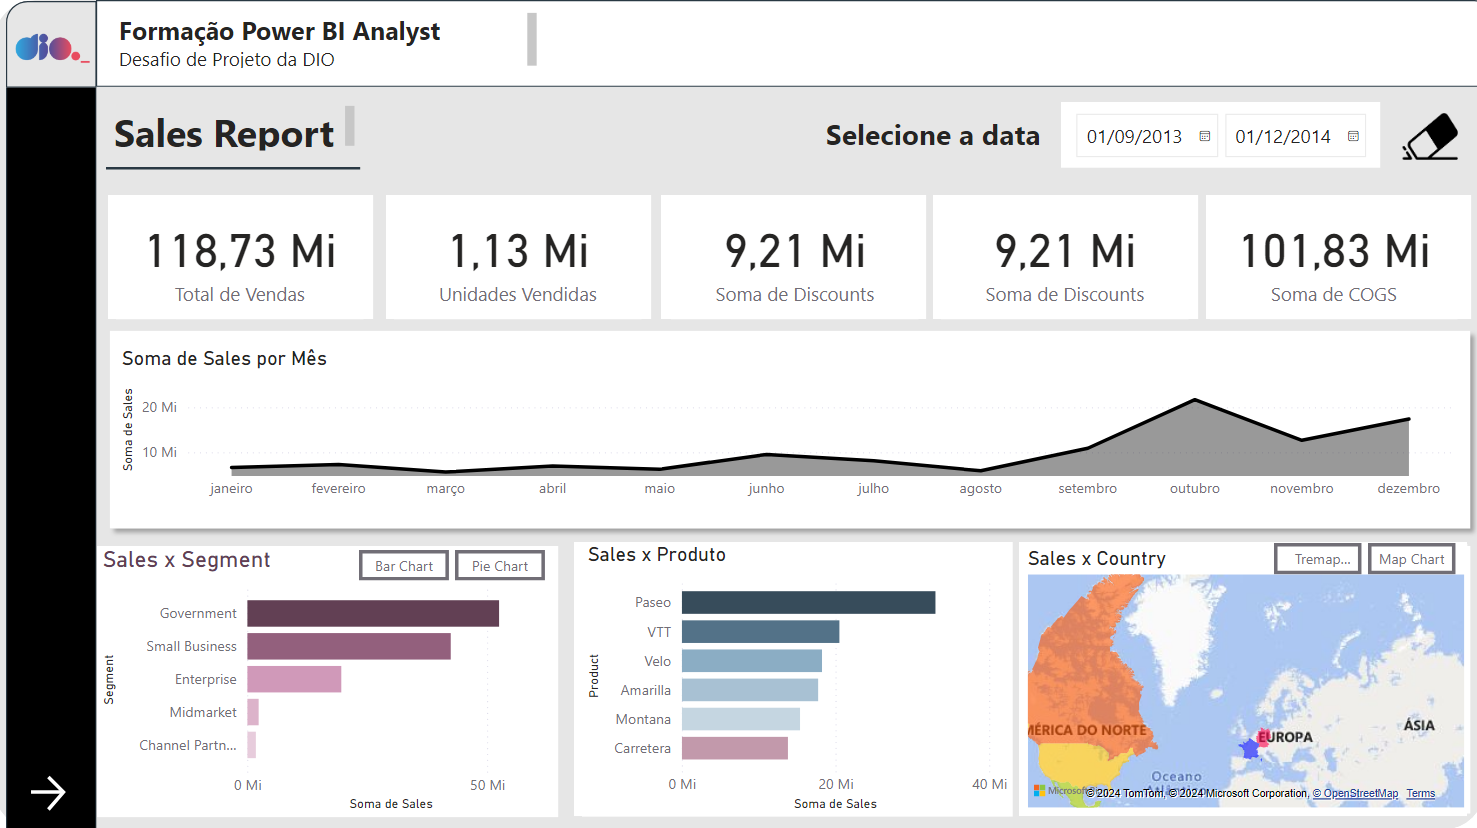

This screenshot's page, from the dashboard's own definition file:
{"tool":"powerbi","page":{"name":"Página 1","canvas":[1280,720],"ordinal":0},"visuals":[{"type":"shape","box":[0,13.2,1270.2,706.8],"z":0},{"type":"slicer","fields":{"Values":["financials.Date"]},"box":[909.4,99.8,272.2,55.6],"z":0,"group":"g5"},{"type":"shape","box":[95.5,139.7,216.7,32.8],"z":0,"group":"g4"},{"type":"shape","box":[97.4,179.2,226.5,105.7],"z":0,"group":"g1"},{"type":"map","title":"Sales x Country","fields":{"Category":["financials.Country"],"Size":["Sum(financials. Sales)"]},"box":[873.8,476,382,228.1],"z":0,"group":"g2"},{"type":"clusteredBarChart","title":"Sales x Segment","fields":{"Category":["financials.Segment"],"Y":["Sum(financials. Sales)"]},"box":[87.8,477.7,393.2,230.7],"z":250,"group":"g3"},{"type":"actionButton","title":"Botão - bar","box":[310.7,481.6,76.6,26],"z":500,"group":"g3"},{"type":"actionButton","title":"Botão -pie","box":[392.8,481.6,76.6,26],"z":750,"group":"g3"},{"type":"shape","box":[10.1,13.4,77.2,706.3],"z":1000},{"type":"textbox","box":[96.9,98.4,215.2,48.5],"z":1000,"group":"g4"},{"type":"textbox","box":[704.1,105.5,199.6,45.6],"z":1000,"group":"g5"},{"type":"shape","box":[334,179.2,226.5,105.7],"z":1000,"group":"g1"},{"type":"filledMap","title":"Sales x Country","fields":{"Category":["financials.Country"]},"box":[876.7,477.5,382,228.1],"z":1000,"group":"g2"},{"type":"actionButton","title":"Botão - map","box":[1170.8,475.2,74.5,26.6],"z":1250,"group":"g2"},{"type":"actionButton","title":"Botão - tremap","box":[1090.9,475.2,74.5,26.6],"z":1500,"group":"g2"},{"type":"shape","box":[10.1,13.4,77.2,73.8],"z":2000},{"type":"shape","box":[568.9,179.2,226.5,105.7],"z":2000,"group":"g1"},{"type":"actionButton","box":[1195.9,104.1,59.9,51.3],"z":3000},{"type":"shape","box":[800.4,179.2,226.5,105.7],"z":3000,"group":"g1"},{"type":"shape","box":[86.9,12.8,1193.1,74.1],"z":4000},{"type":"shape","box":[1032.6,179.2,226.5,105.7],"z":4000,"group":"g1"},{"type":"textbox","box":[101,19,365.9,57.1],"z":5000},{"type":"card","fields":{"Values":["Sum(financials. Sales)"]},"box":[104.1,179.6,211,105.5],"z":5000,"group":"g1"},{"type":"group","id":"g1","title":"Cartões","box":[97.4,179.2,1161.7,105.9],"z":6000},{"type":"card","fields":{"Values":["Sum(financials.Units Sold)"]},"box":[340.7,179.6,211,105.5],"z":6000,"group":"g1"},{"type":"card","fields":{"Values":["Sum(financials.Discounts)"]},"box":[806.8,179.6,211,105.5],"z":7000,"group":"g1"},{"type":"shape","box":[89.8,285.1,1177.4,186.7],"z":7000},{"type":"card","fields":{"Values":["Sum(financials.Discounts)"]},"box":[577.3,179.6,211,105.5],"z":8000,"group":"g1"},{"type":"shape","box":[494.6,474.7,370.6,233.8],"z":8000},{"type":"card","fields":{"Values":["Sum(financials.COGS)"]},"box":[1036.3,179.6,211,105.5],"z":9000,"group":"g1"},{"type":"shape","box":[873.8,474.7,382,233.8],"z":9000},{"type":"areaChart","fields":{"Category":["financials.Date.Variation.Hierarquia de datas.Mês"],"Y":["Sum(financials. Sales)"]},"box":[104.1,307.9,1143.2,139.7],"z":10000},{"type":"clusteredBarChart","title":"Sales x Produto","fields":{"Y":["Sum(financials. Sales)"],"Category":["financials.Product"]},"box":[501.2,474.5,366.9,233.8],"z":11000},{"type":"group","id":"g2","title":"Sales x país","box":[873.8,475.2,384.9,230.3],"z":12000},{"type":"group","id":"g3","title":"Sales x Segmento","box":[87.8,477.1,396.6,231.2],"z":13000},{"type":"group","id":"g4","title":"Title report","box":[95.5,98.4,216.7,74.1],"z":14000},{"type":"actionButton","box":[25.9,669,48.8,39.6],"z":15000},{"type":"image","box":[11.7,16.1,76.1,73.2],"z":16000},{"type":"image","box":[1191.2,101,64.4,57.1],"z":16001,"group":"g5"},{"type":"group","id":"g5","title":"Grupo 1","box":[704.1,99.8,551.5,58.3],"z":17000}]}

Visuals, with their boxes on the page's 1280x720 design canvas (x1, y1, x2, y2). These are canvas units, not pixel positions in the 1477x828 screenshot, which may show the page scaled, cropped or inside an application window:
shape: bbox(0, 13, 1270, 720)
slicer - financials.Date: bbox(909, 100, 1182, 155)
shape: bbox(96, 140, 312, 172)
shape: bbox(97, 179, 324, 285)
"Sales x Country" map: bbox(874, 476, 1256, 704)
"Sales x Segment" clusteredBarChart: bbox(88, 478, 481, 708)
"Botão - bar" actionButton: bbox(311, 482, 387, 508)
"Botão -pie" actionButton: bbox(393, 482, 469, 508)
shape: bbox(10, 13, 87, 720)
textbox: bbox(97, 98, 312, 147)
textbox: bbox(704, 106, 904, 151)
shape: bbox(334, 179, 560, 285)
"Sales x Country" filledMap: bbox(877, 478, 1259, 706)
"Botão - map" actionButton: bbox(1171, 475, 1245, 502)
"Botão - tremap" actionButton: bbox(1091, 475, 1165, 502)
shape: bbox(10, 13, 87, 87)
shape: bbox(569, 179, 795, 285)
actionButton: bbox(1196, 104, 1256, 155)
shape: bbox(800, 179, 1027, 285)
shape: bbox(87, 13, 1280, 87)
shape: bbox(1033, 179, 1259, 285)
textbox: bbox(101, 19, 467, 76)
card - Sum(financials. Sales): bbox(104, 180, 315, 285)
"Cartões" group: bbox(97, 179, 1259, 285)
card - Sum(financials.Units Sold): bbox(341, 180, 552, 285)
card - Sum(financials.Discounts): bbox(807, 180, 1018, 285)
shape: bbox(90, 285, 1267, 472)
card - Sum(financials.Discounts): bbox(577, 180, 788, 285)
shape: bbox(495, 475, 865, 708)
card - Sum(financials.COGS): bbox(1036, 180, 1247, 285)
shape: bbox(874, 475, 1256, 708)
areaChart - financials.Date.Variation.Hierarquia de datas.Mês x Sum(financials. Sales): bbox(104, 308, 1247, 448)
"Sales x Produto" clusteredBarChart: bbox(501, 474, 868, 708)
"Sales x país" group: bbox(874, 475, 1259, 706)
"Sales x Segmento" group: bbox(88, 477, 484, 708)
"Title report" group: bbox(96, 98, 312, 172)
actionButton: bbox(26, 669, 75, 709)
image: bbox(12, 16, 88, 89)
image: bbox(1191, 101, 1256, 158)
"Grupo 1" group: bbox(704, 100, 1256, 158)
